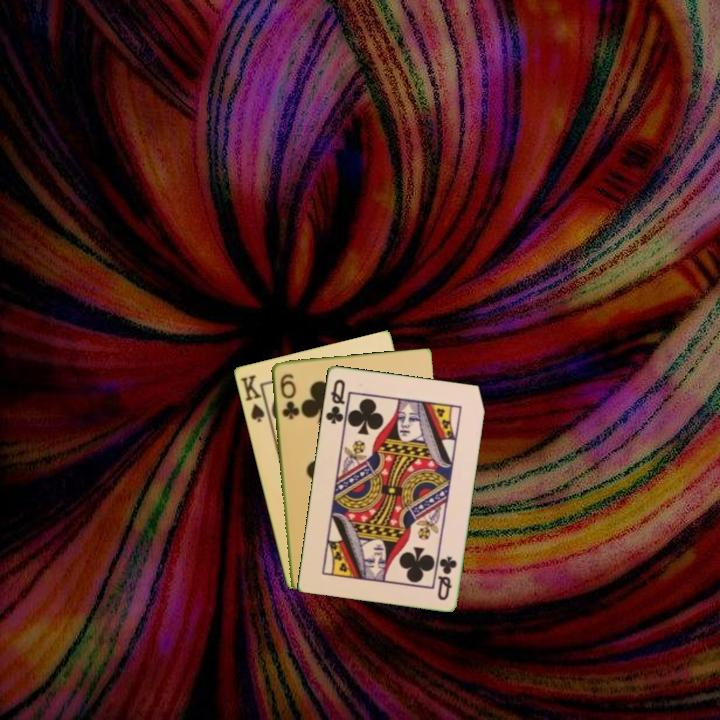6c: (276, 370, 301, 422)
Ks: (236, 371, 272, 425)
Qc: (322, 375, 348, 427), (434, 553, 460, 603)
